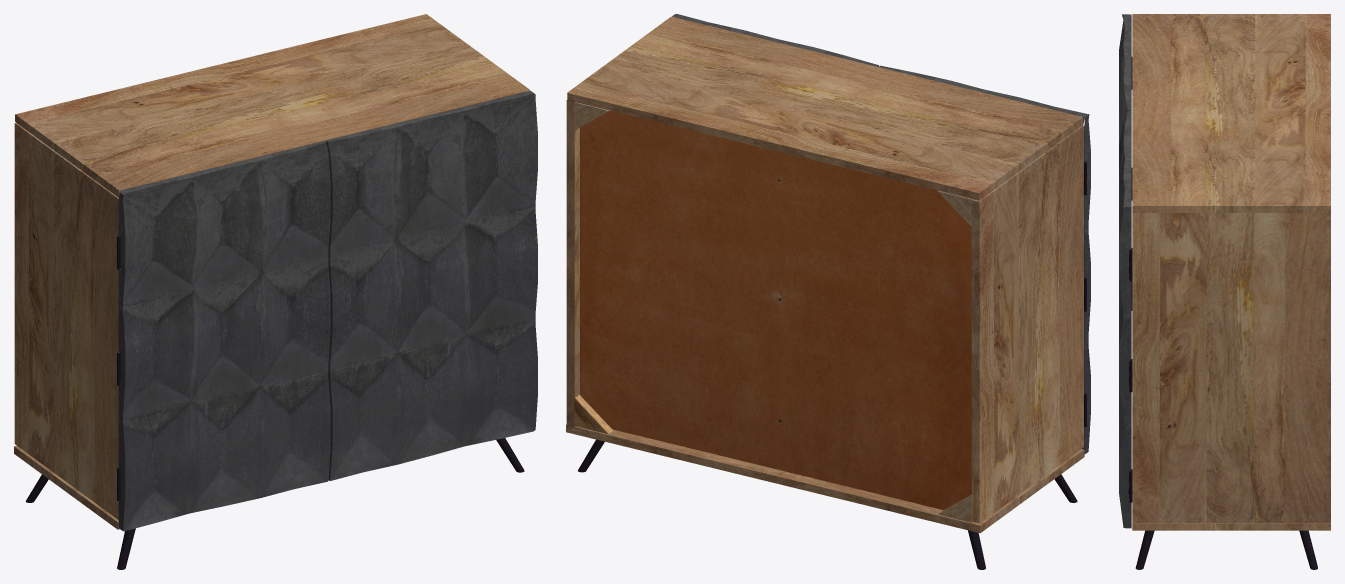
The model's file is cabinet_B07HSDP2CP.glb.
The picture shows the model from 3 angles, left to right: view 1: azimuth 30°, elevation 25°; view 2: azimuth 150°, elevation 25°; view 3: azimuth 270°, elevation 25°; orthographic projection. The views are drawn at different scales.
Visible parts, largest first — view 1: RootNode; view 2: RootNode; view 3: RootNode.
Part boxes in pixels (box(x1,y1,x2,y2)): RootNode: box(14, 14, 537, 569); RootNode: box(566, 14, 1090, 569); RootNode: box(1119, 14, 1330, 569).
Size of the model in its own units: 0.9673 by 0.8471 by 0.4455.
1 material, 1 textured.
